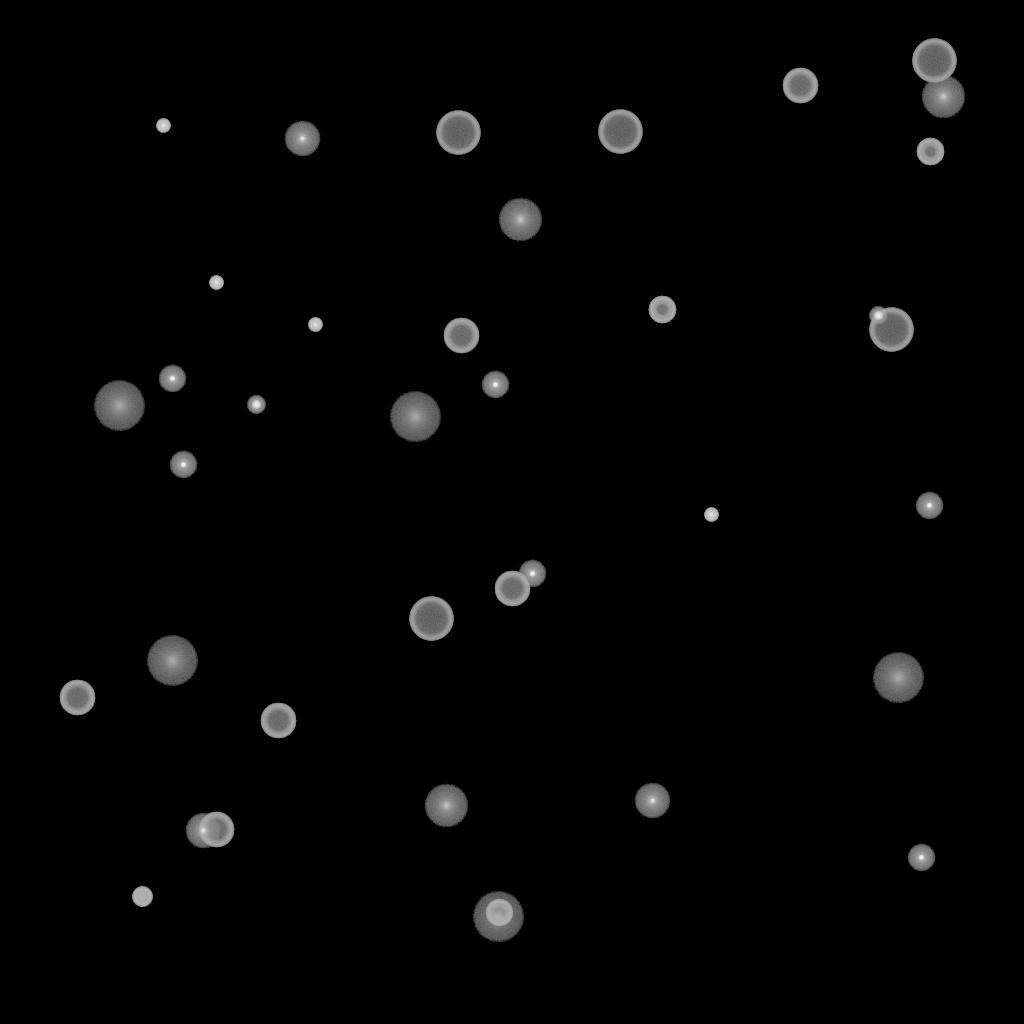depth:-10: (481, 371, 509, 399), (158, 365, 186, 393), (915, 492, 943, 520), (169, 451, 197, 479), (907, 844, 935, 872), (518, 560, 546, 588)
depth:-20: (247, 396, 265, 414), (869, 307, 887, 325)
depth:-30: (308, 318, 322, 332), (704, 508, 718, 522), (156, 119, 170, 133), (209, 276, 223, 290)
depth:-40: (132, 887, 152, 907)
depth:-50: (916, 138, 944, 166), (485, 899, 513, 927), (648, 296, 676, 324)
depth:-60: (782, 68, 818, 104), (494, 571, 530, 607), (260, 703, 296, 739), (59, 680, 95, 716), (443, 318, 479, 354), (198, 812, 234, 848)
depth:-70: (912, 39, 956, 83), (409, 597, 453, 641), (869, 308, 913, 352), (436, 111, 480, 155), (598, 110, 642, 154)
depth:0: (284, 121, 320, 157), (185, 813, 221, 849), (634, 783, 670, 819)
depth:10: (424, 784, 468, 828), (498, 198, 542, 242), (921, 75, 965, 119)
depth:20: (472, 892, 524, 942), (389, 392, 441, 442), (872, 653, 924, 703), (146, 636, 198, 686), (93, 381, 145, 431)
